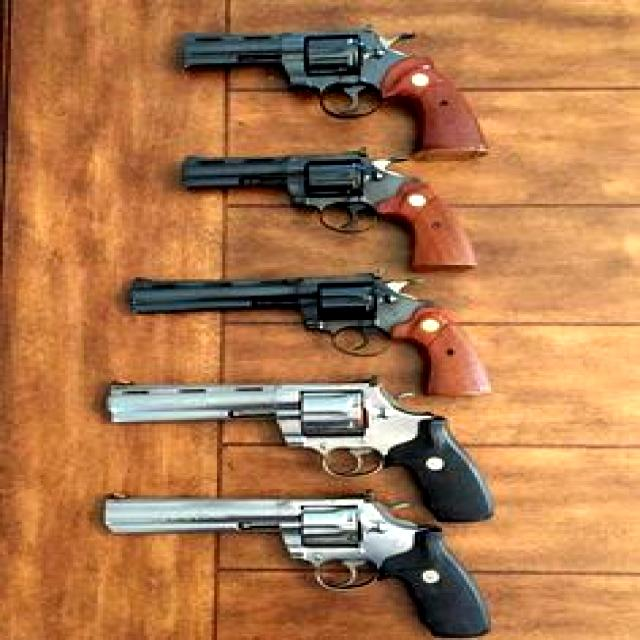revolver: (71, 472, 537, 640)
